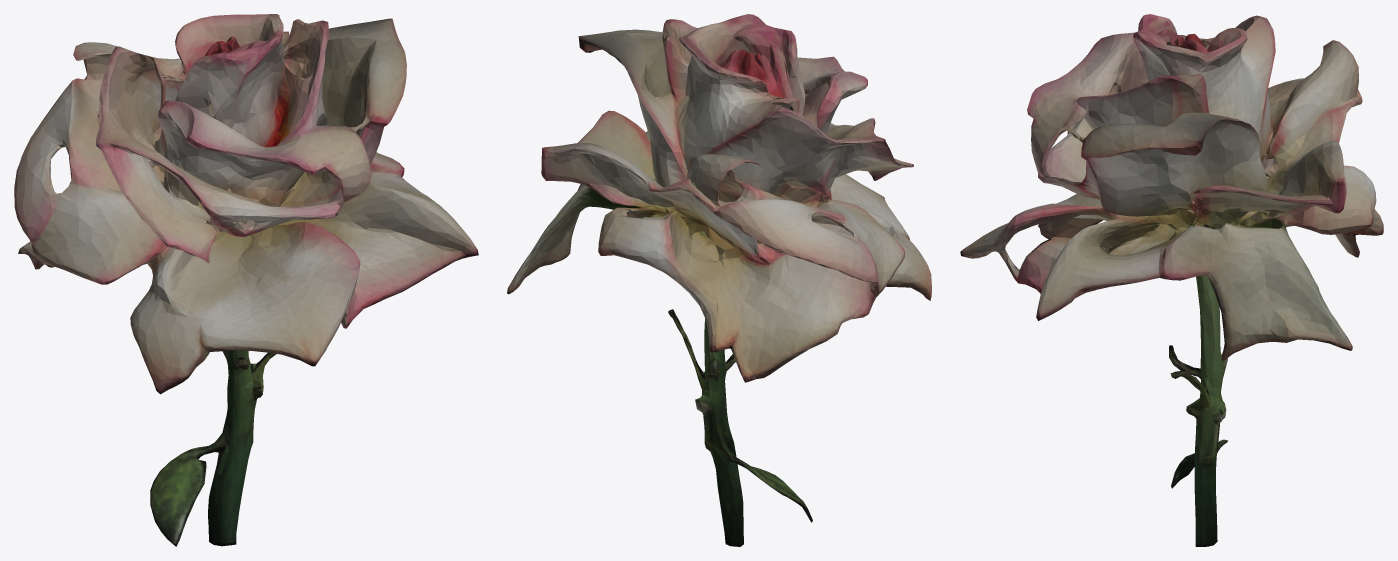
3 views of the same model, side by side, from view 1: azimuth 30°, elevation 25°; view 2: azimuth 150°, elevation 25°; view 3: azimuth 270°, elevation 25° (orthographic). The views are drawn at different scales.
Parts seen in each view (by area): view 1: world; view 2: world; view 3: world.
Part boxes in pixels (bbox=[...]): world: bbox=[14, 14, 478, 546]; world: bbox=[507, 14, 931, 546]; world: bbox=[960, 14, 1383, 546].
Size of the model in its own units: 0.5783 by 0.8409 by 0.622.
Materials: 1 (1 with a texture image).
